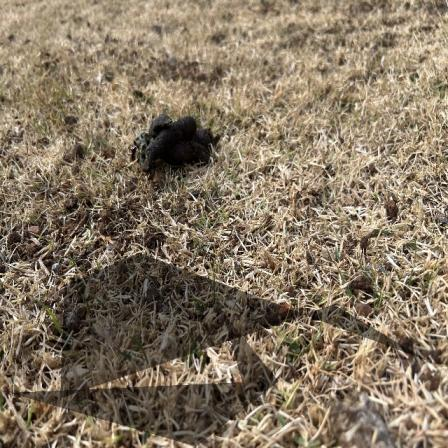dog-poop: (135, 108, 207, 168)
